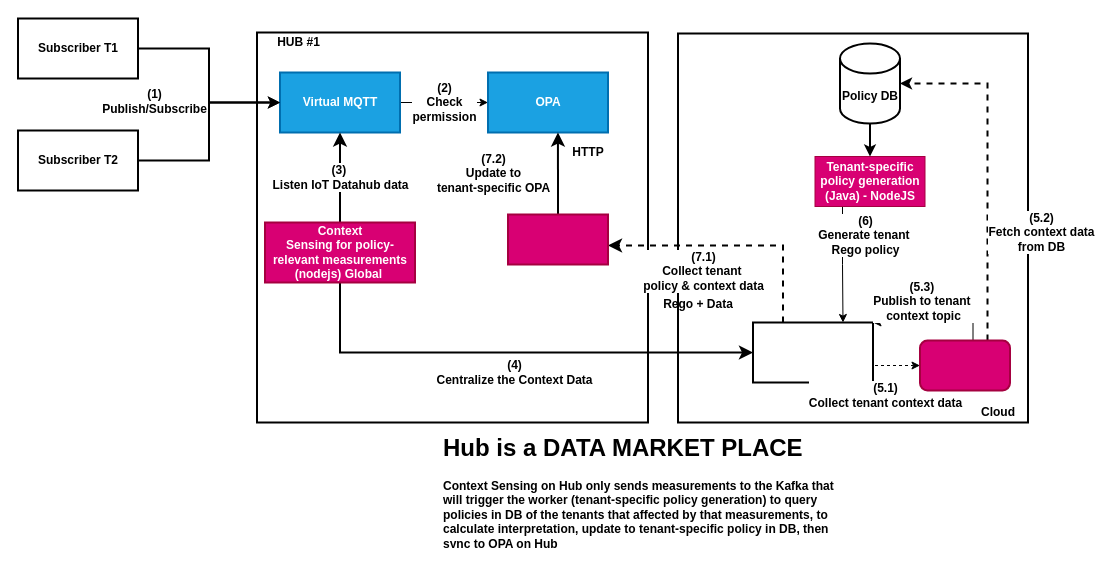
The diagram is 1111 pixels wide and 567 high, and some of its shapes have lost their labels. The box of each missing label's shape, as (x1, y1, x2, y2) in pixels:
Context-based Interpretation Worker: (918, 339, 1010, 391)
Kafka (Broker): (752, 321, 874, 383)
Local policy synchonizer (NodeJS): (506, 213, 608, 265)
